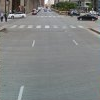crosswalk: (10, 24, 84, 28)
